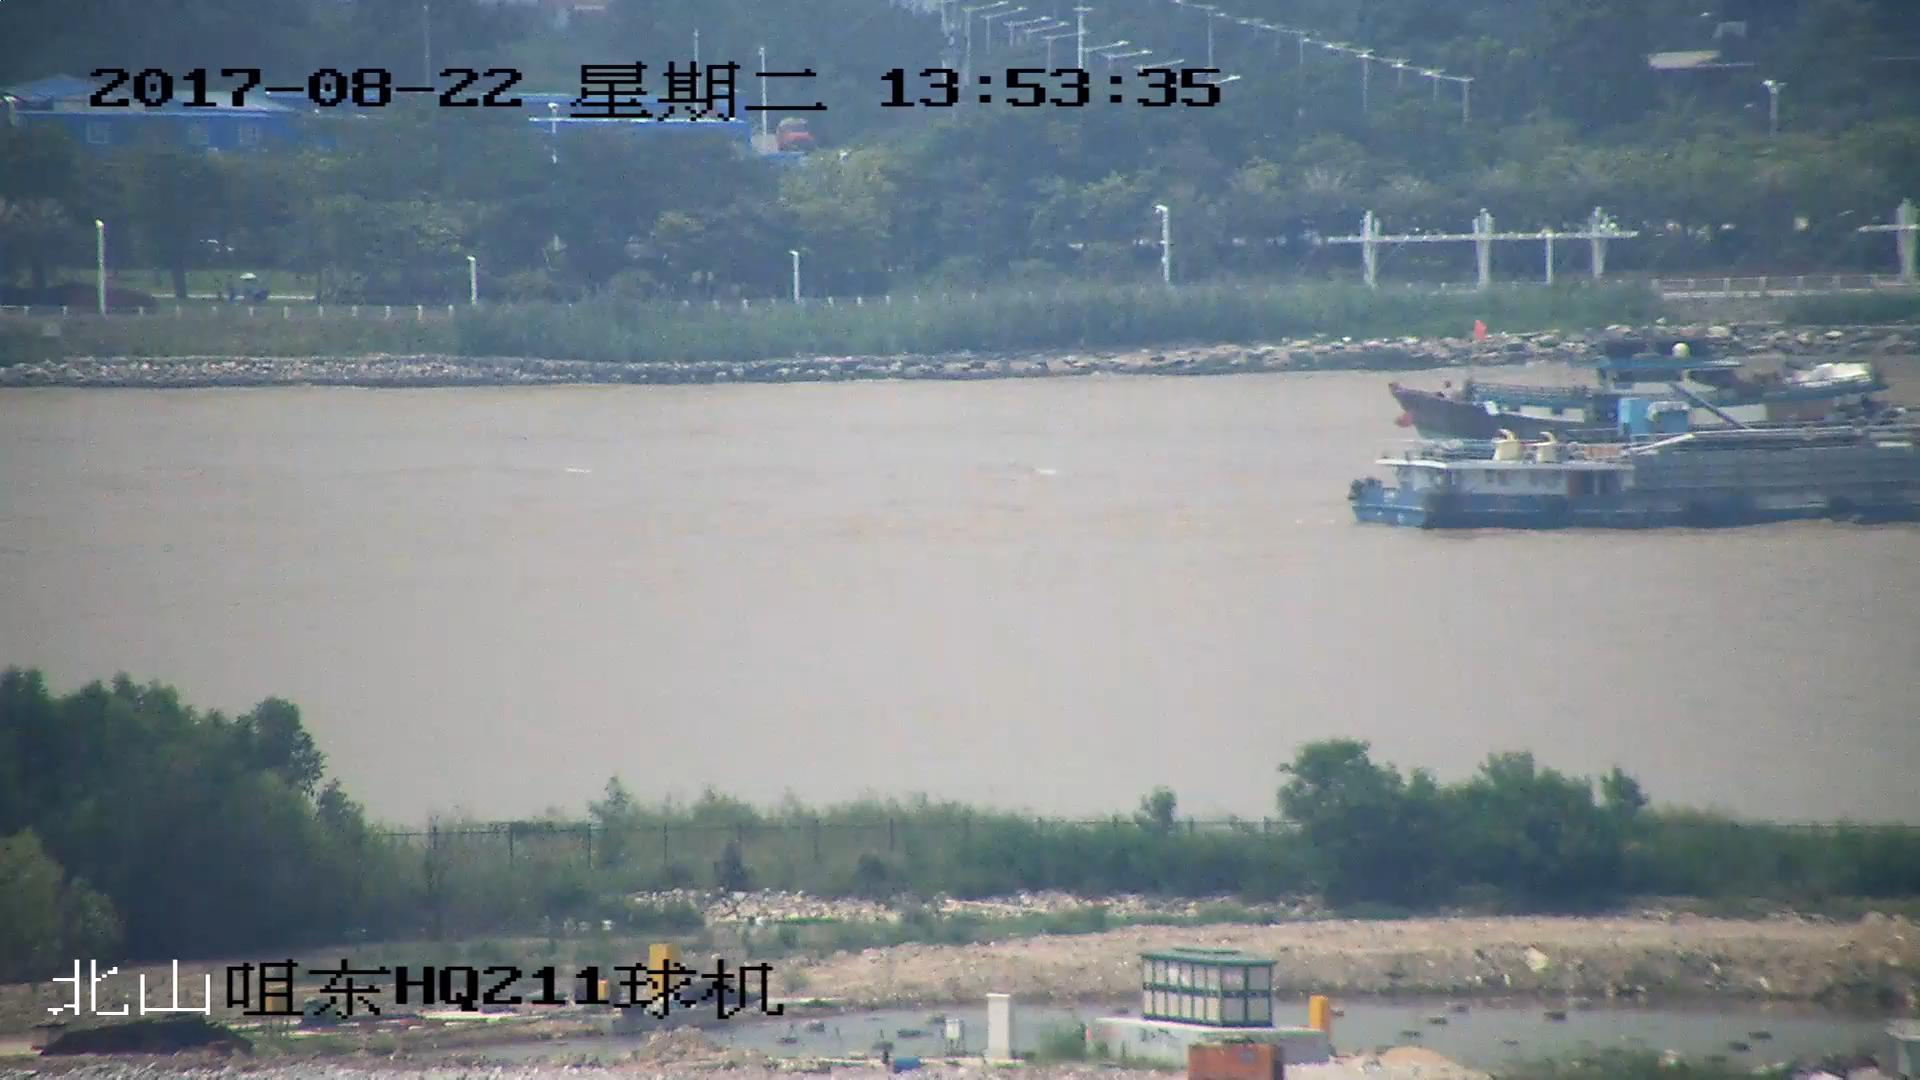Ship: (1386, 323, 1892, 444), (1352, 425, 1920, 527)
